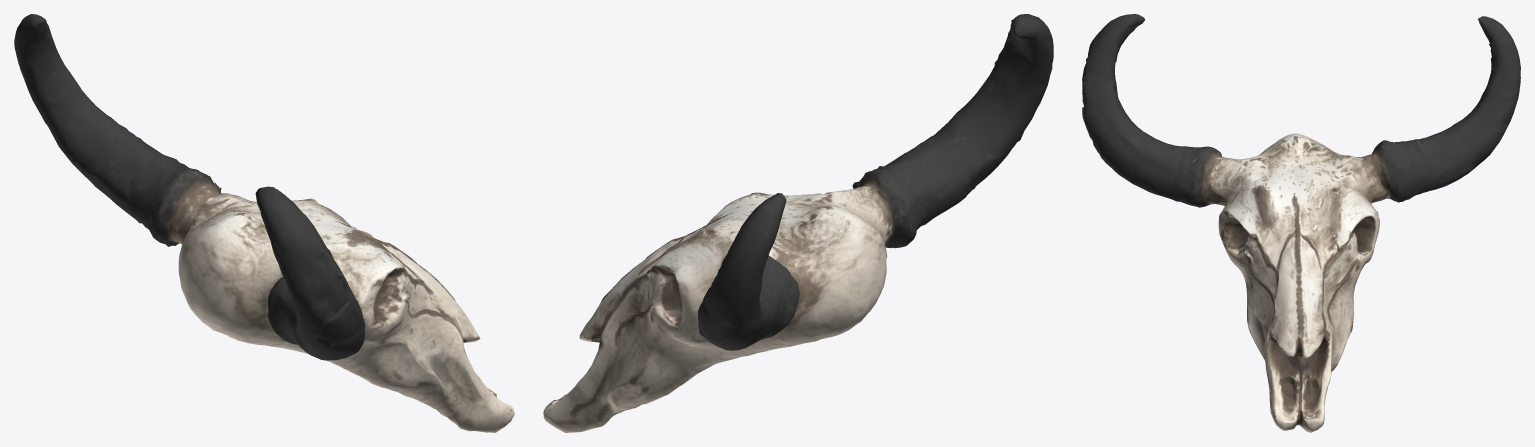
Rendered from Craneo_desierto.fbx.
3 renders of one model, left to right at view 1: azimuth 30°, elevation 25°; view 2: azimuth 150°, elevation 25°; view 3: azimuth 270°, elevation 25°, orthographic. The views are drawn at different scales.
Visible parts, largest first — view 1: tripo_node_6bdc1e6f; view 2: tripo_node_6bdc1e6f; view 3: tripo_node_6bdc1e6f.
Boxes of the visible parts, x1=… form: tripo_node_6bdc1e6f: x1=14, y1=14, x2=514, y2=432; tripo_node_6bdc1e6f: x1=543, y1=14, x2=1053, y2=432; tripo_node_6bdc1e6f: x1=1082, y1=14, x2=1520, y2=432.
Bounding box in the file's own units: 0.7067 × 0.7495 × 0.9998.
1 material, 1 textured.
